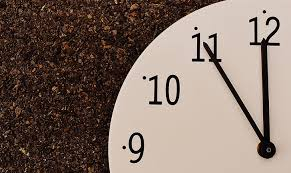alarm_clock: (103, 0, 289, 169), (113, 3, 289, 169), (119, 0, 289, 169)
